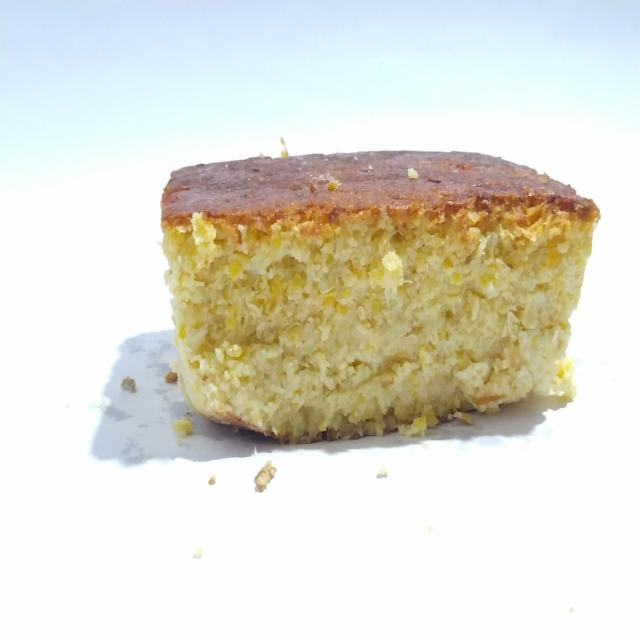Food: (151, 128, 604, 454)
